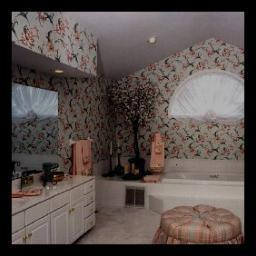Matera: (110, 79, 156, 174)
